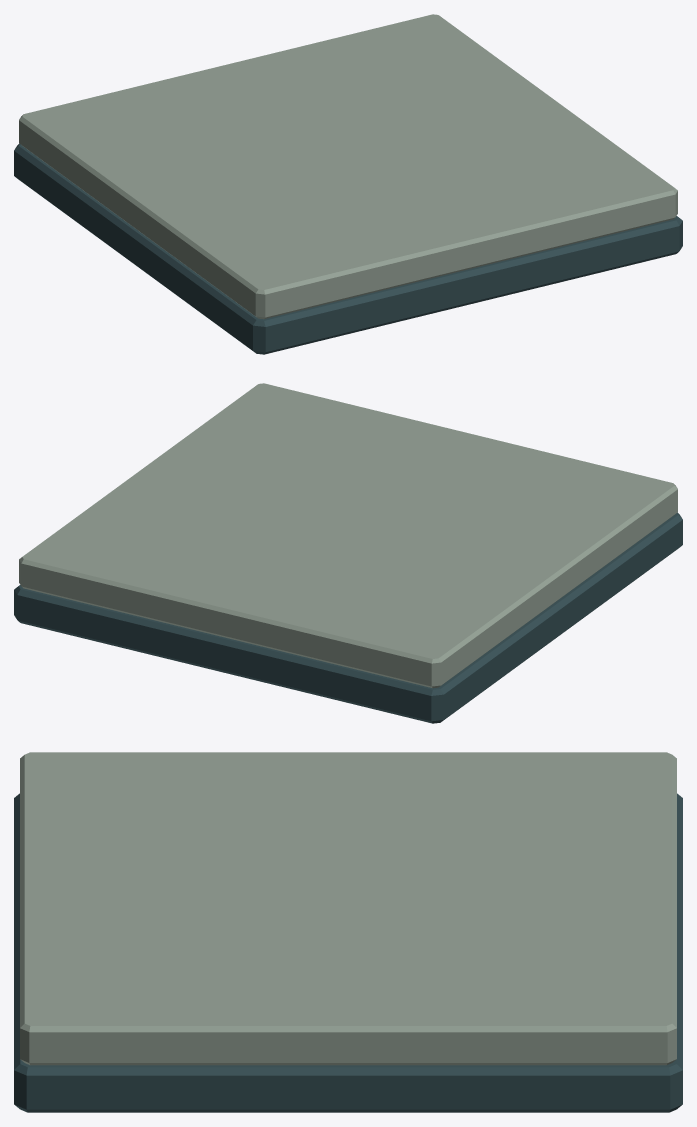
Rendered from floor-small.glb.
The picture shows the model from 3 angles, top to bottom: view 1: azimuth 30°, elevation 25°; view 2: azimuth 150°, elevation 25°; view 3: azimuth 270°, elevation 25°; orthographic projection. The views are drawn at different scales.
Parts seen in each view (by area): view 1: floor-small__body; view 2: floor-small__body; view 3: floor-small__body.
Part boxes in pixels (x1,y1,x2,y2): floor-small__body: (14, 14, 682, 354); floor-small__body: (14, 383, 682, 723); floor-small__body: (14, 752, 682, 1112).
Bounding box in the file's own units: 1 × 0.14 × 1.
